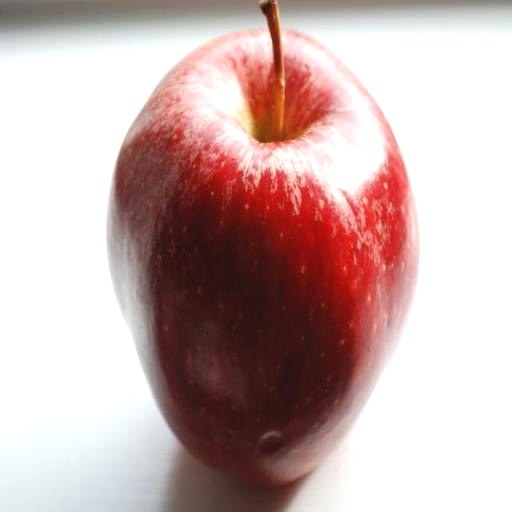fruit: (107, 32, 417, 484)
